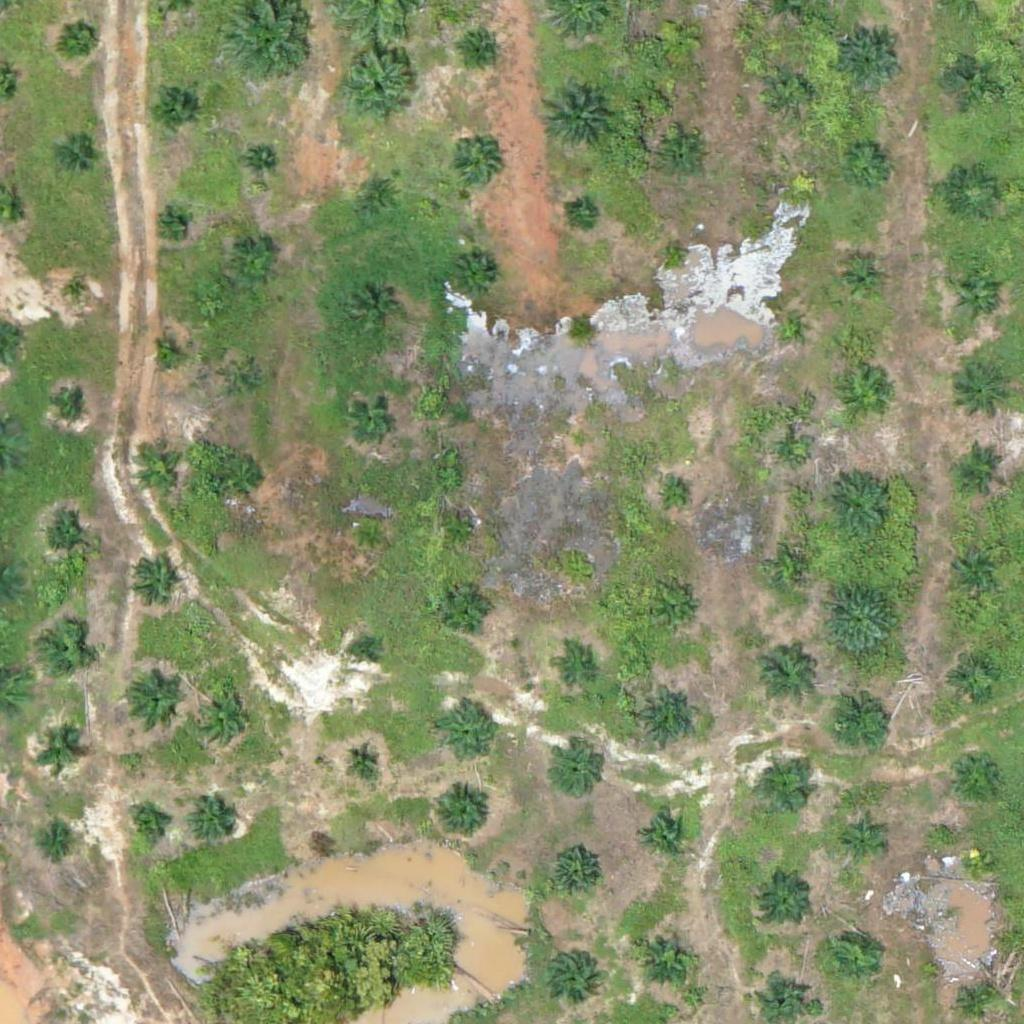Kelapa_Sawit: (334, 43, 422, 131), (819, 467, 894, 543), (823, 685, 898, 761), (823, 581, 898, 657), (540, 79, 615, 155), (752, 640, 815, 703), (637, 686, 700, 749), (953, 360, 1016, 423), (840, 29, 903, 92), (191, 687, 254, 750), (431, 783, 493, 846), (635, 925, 697, 988), (435, 701, 497, 764), (125, 669, 187, 732), (221, 452, 271, 503), (551, 745, 601, 796), (548, 846, 598, 897), (639, 810, 689, 861), (441, 582, 491, 633), (947, 168, 997, 219), (945, 50, 995, 101), (766, 66, 816, 117), (654, 12, 704, 63), (842, 139, 892, 190), (952, 271, 1002, 322), (134, 446, 184, 497), (760, 971, 810, 1021), (763, 765, 813, 815), (759, 875, 809, 925), (949, 748, 999, 798), (948, 652, 998, 702), (826, 931, 876, 981), (545, 949, 595, 999), (841, 373, 891, 423), (660, 133, 710, 183), (950, 538, 1000, 588), (955, 443, 1005, 493), (837, 256, 887, 306), (42, 517, 92, 567), (40, 626, 90, 676), (129, 559, 179, 609), (189, 795, 239, 845), (449, 139, 499, 189), (452, 253, 502, 303), (349, 392, 399, 442), (349, 285, 399, 335), (356, 171, 406, 221), (229, 241, 279, 291), (148, 81, 198, 131), (841, 821, 879, 859), (554, 651, 592, 689), (39, 731, 77, 769), (40, 822, 78, 860), (127, 805, 165, 843), (659, 594, 696, 632), (346, 742, 383, 780), (350, 518, 388, 555), (224, 363, 262, 400), (63, 18, 100, 56), (443, 512, 480, 550), (59, 142, 96, 179), (569, 202, 594, 228), (781, 558, 806, 584), (774, 313, 799, 338), (779, 441, 804, 466), (662, 484, 687, 509), (662, 240, 687, 265), (962, 849, 987, 874), (352, 639, 377, 664), (160, 212, 185, 237), (153, 342, 178, 367), (65, 281, 90, 306), (59, 393, 84, 418), (470, 38, 495, 63), (568, 429, 593, 454), (248, 148, 272, 173)
